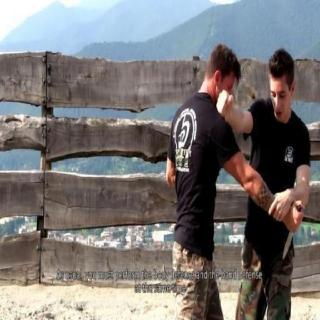knife: (281, 198, 305, 262)
